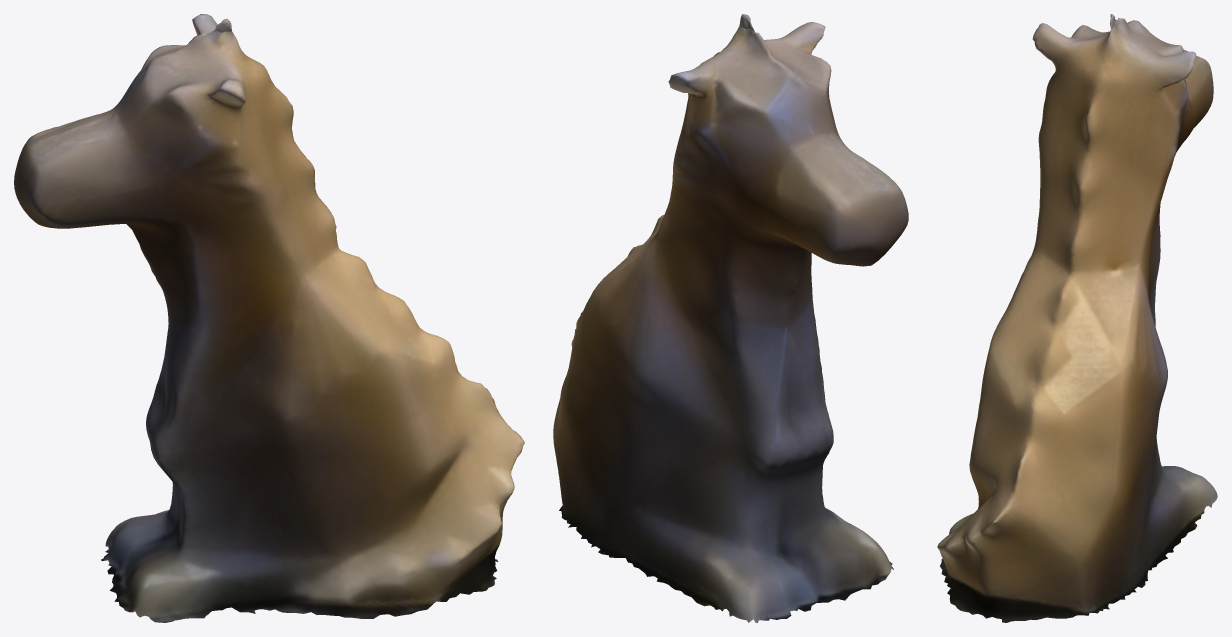
File: 3dskann.glb
The picture shows the model from 3 angles, left to right: view 1: azimuth 30°, elevation 25°; view 2: azimuth 150°, elevation 25°; view 3: azimuth 270°, elevation 25°; orthographic projection. The views are drawn at different scales.
Parts seen in each view (by area): view 1: 3DModel; view 2: 3DModel; view 3: 3DModel.
Part boxes in pixels (left/top/right/bottom): 3DModel: left=14, top=14, right=524, bottom=622; 3DModel: left=553, top=14, right=908, bottom=622; 3DModel: left=937, top=14, right=1217, bottom=622.
Bounding box in the file's own units: 0.433 × 0.5566 × 0.2747.
Materials: 1 (1 with a texture image).
